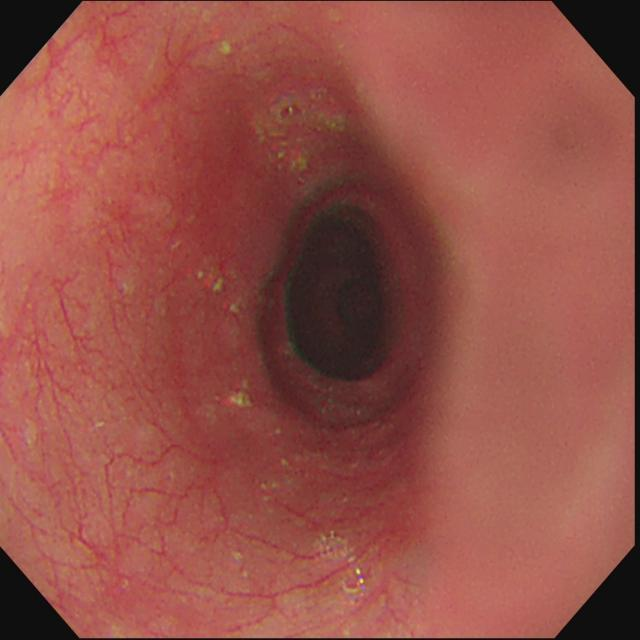E: (275, 199, 408, 391)
J: (261, 121, 313, 177), (193, 265, 243, 317), (229, 381, 253, 413)
T: (275, 93, 344, 130)
